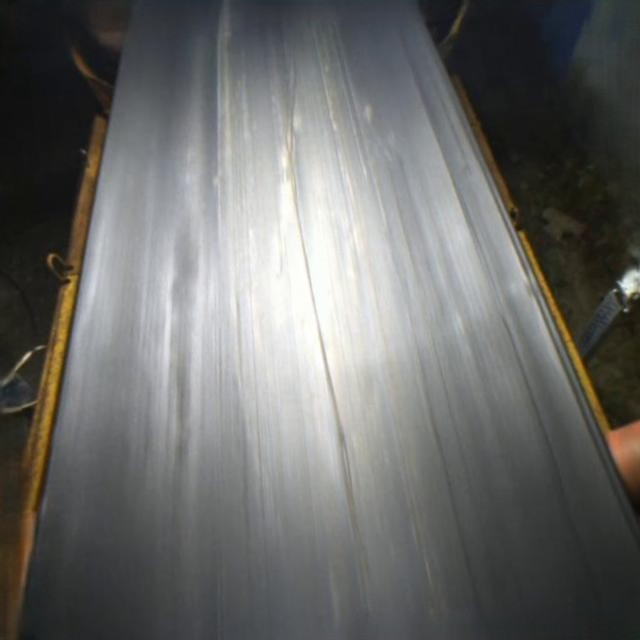Tear: (276, 54, 370, 546), (490, 313, 604, 592), (386, 25, 484, 233)
